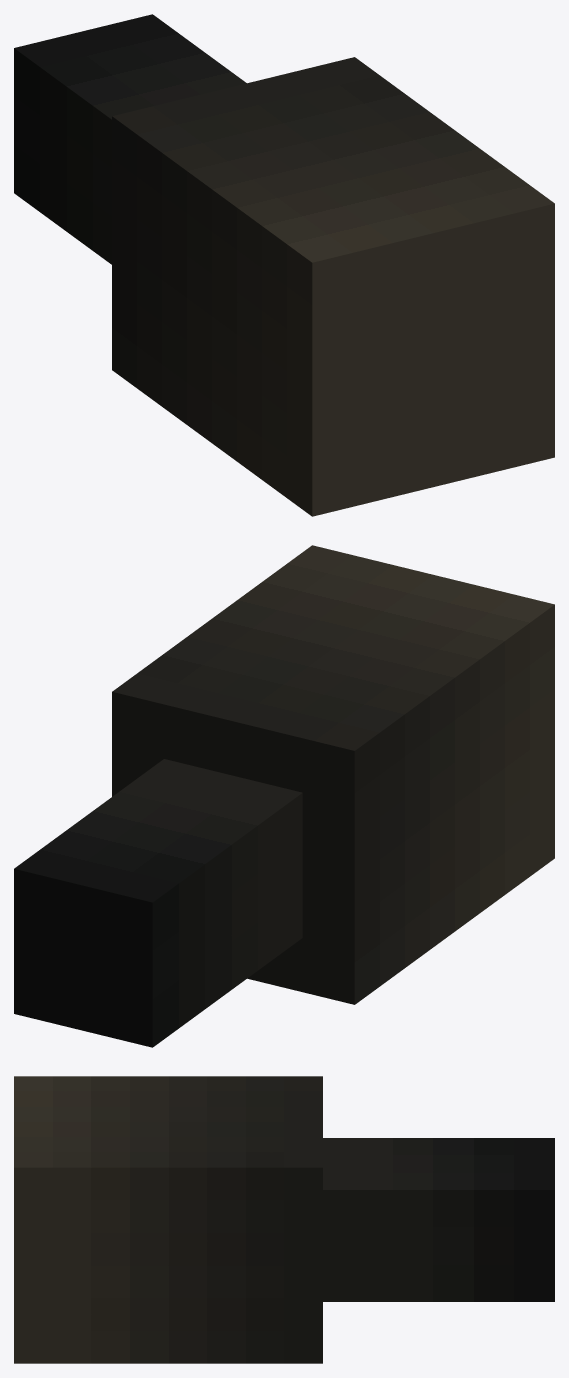
Rendered from seed_projectile.gltf.
3 renders of one model, top to bottom at view 1: azimuth 30°, elevation 25°; view 2: azimuth 150°, elevation 25°; view 3: azimuth 270°, elevation 25°, orthographic. The views are drawn at different scales.
Parts seen in each view (by area): view 1: cube (×2); view 2: cube (×2); view 3: cube (×2).
Part boxes in pixels (left/top/right/bottom): cube (×2): left=14, top=14, right=554, bottom=516; cube (×2): left=14, top=545, right=554, bottom=1047; cube (×2): left=14, top=1076, right=554, bottom=1363.
Size of the model in its own units: 0.0875 by 0.0875 by 0.2188.
1 material, 1 textured.
